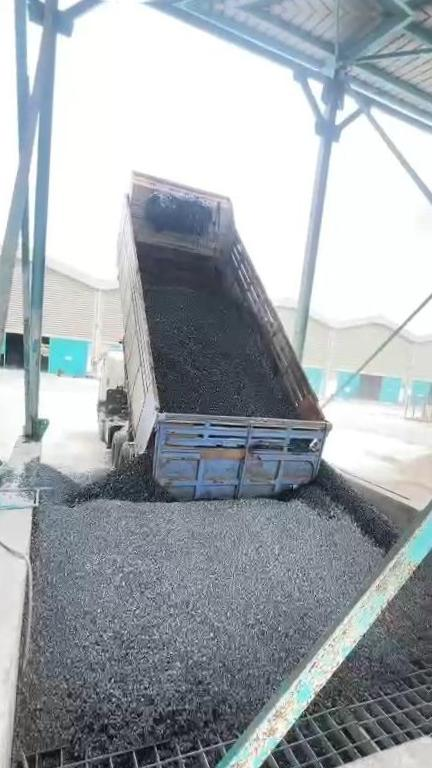gravel: (14, 427, 401, 751), (149, 286, 294, 416), (322, 567, 432, 704)
sand: (361, 450, 432, 505)
